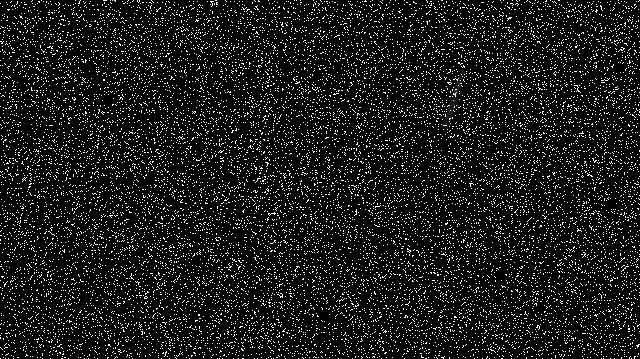pot: (255, 166, 386, 288)
